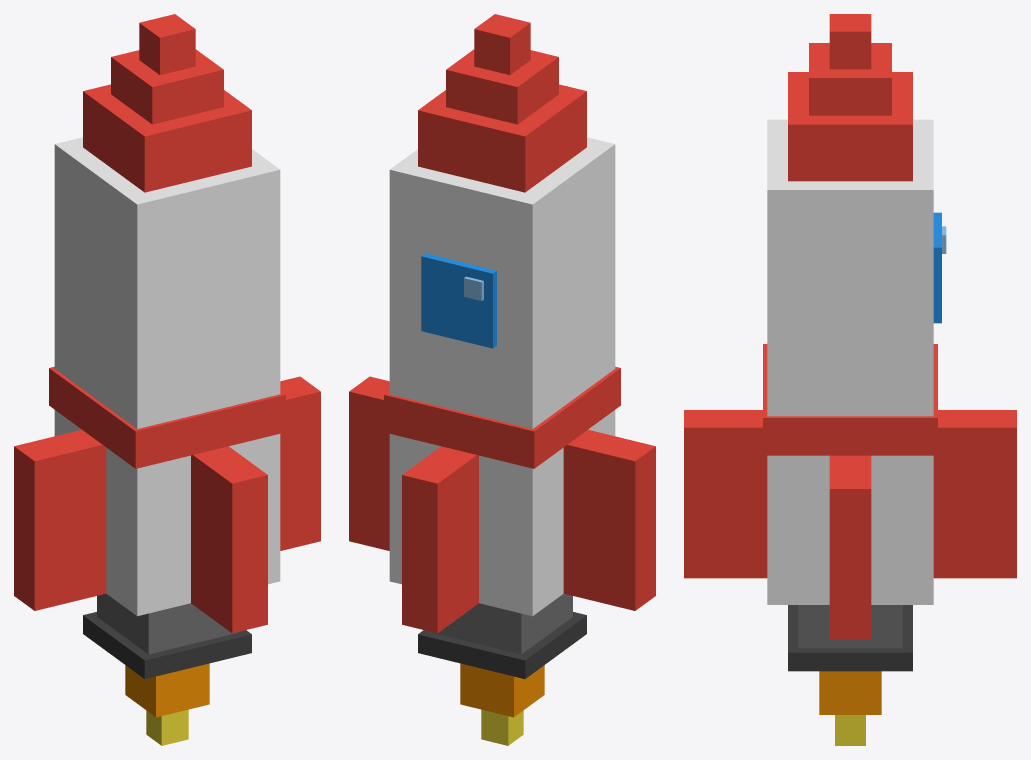
The model's file is rocket.fbx.
3 views of the same model, side by side, from view 1: azimuth 30°, elevation 25°; view 2: azimuth 150°, elevation 25°; view 3: azimuth 270°, elevation 25° (orthographic).
Visible parts, largest first — view 1: body, fin-left, fin-back, nose-1, stripe, fin-right, nose-2, engine-nozzle, engine, flame-outer, nose-3, flame-inner; view 2: body, fin-left, fin-front, nose-1, stripe, fin-right, nose-2, window, engine-nozzle, engine, flame-outer, nose-3 (+1 smaller); view 3: body, fin-front, fin-back, nose-1, fin-right, stripe, nose-2, engine-nozzle, engine, flame-outer, nose-3, window (+1 smaller).
Part boxes in pixels (box(x1,y1,x2,y2)): body: box(54, 137, 280, 616); fin-left: box(14, 429, 106, 610); fin-back: box(191, 446, 267, 633); nose-1: box(83, 84, 251, 192); stripe: box(49, 366, 285, 468); fin-right: box(280, 376, 320, 550); nose-2: box(111, 49, 223, 124); engine-nozzle: box(83, 612, 251, 678); engine: box(97, 593, 237, 654); flame-outer: box(125, 663, 209, 717); nose-3: box(139, 14, 195, 74); flame-inner: box(146, 709, 188, 745); body: box(389, 137, 615, 616); fin-left: box(563, 429, 655, 610); fin-front: box(402, 446, 478, 633); nose-1: box(418, 84, 586, 192); stripe: box(384, 366, 620, 468); fin-right: box(349, 376, 389, 550); nose-2: box(446, 49, 558, 124); window: box(421, 253, 496, 348); engine-nozzle: box(418, 612, 586, 678); engine: box(432, 593, 572, 654); flame-outer: box(460, 663, 544, 717); nose-3: box(474, 14, 530, 74); body: box(767, 119, 933, 604); fin-front: box(933, 410, 1016, 578); fin-back: box(684, 410, 767, 578); nose-1: box(788, 72, 912, 181); fin-right: box(829, 455, 871, 639); stripe: box(763, 344, 937, 455); nose-2: box(809, 43, 891, 115); engine-nozzle: box(788, 605, 912, 671); engine: box(798, 605, 902, 648); flame-outer: box(819, 671, 881, 714); nose-3: box(829, 14, 871, 69); window: box(933, 212, 941, 323).
Bounding box in the file's own units: 100 × 238 × 100.
Materials: 1 (1 with a texture image).
